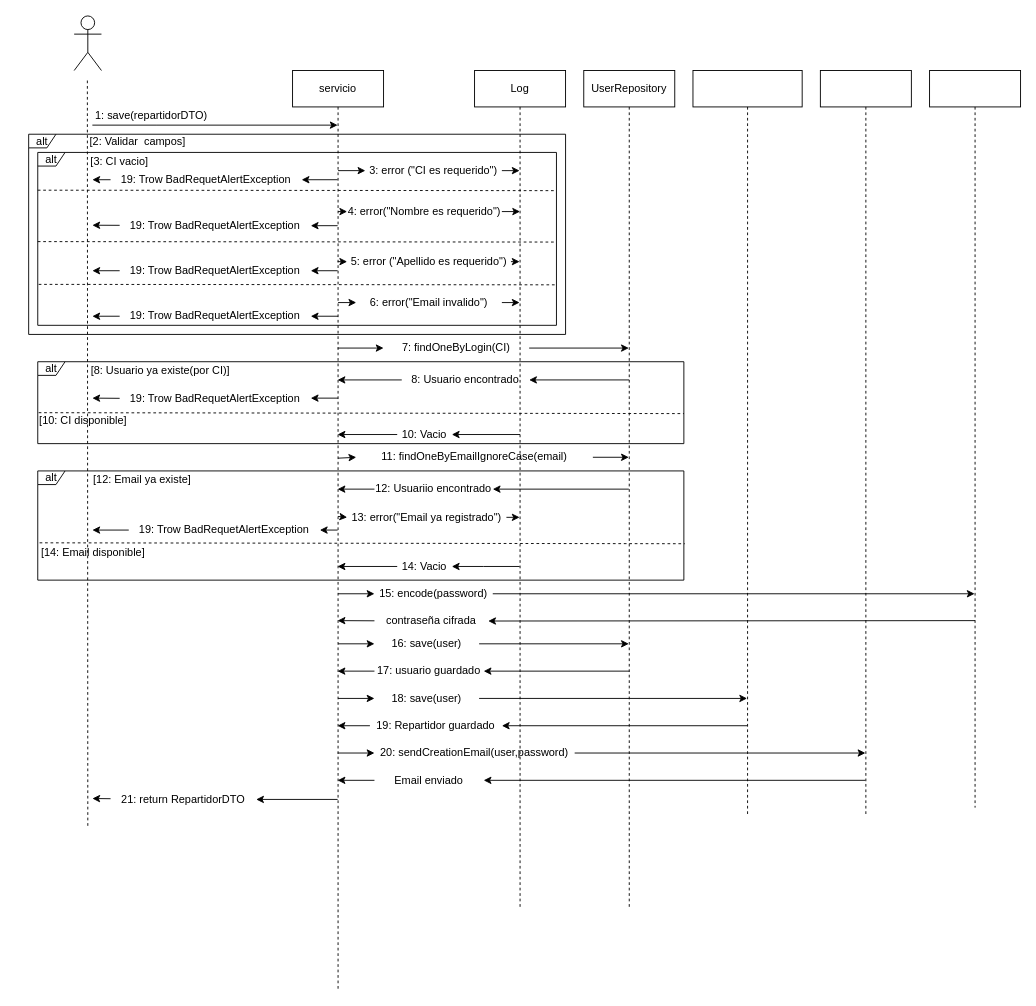
Image size: 1036x1006. Some labels were removed from this diagram. Here are the shapes that lost their labels. From the top down, the box of each, then its label:
(73, 15, 101, 71): Administrador
(692, 70, 802, 817): RepartidorRepository
(819, 70, 911, 817): MailService
(929, 70, 1021, 808): PasswordEncoder
